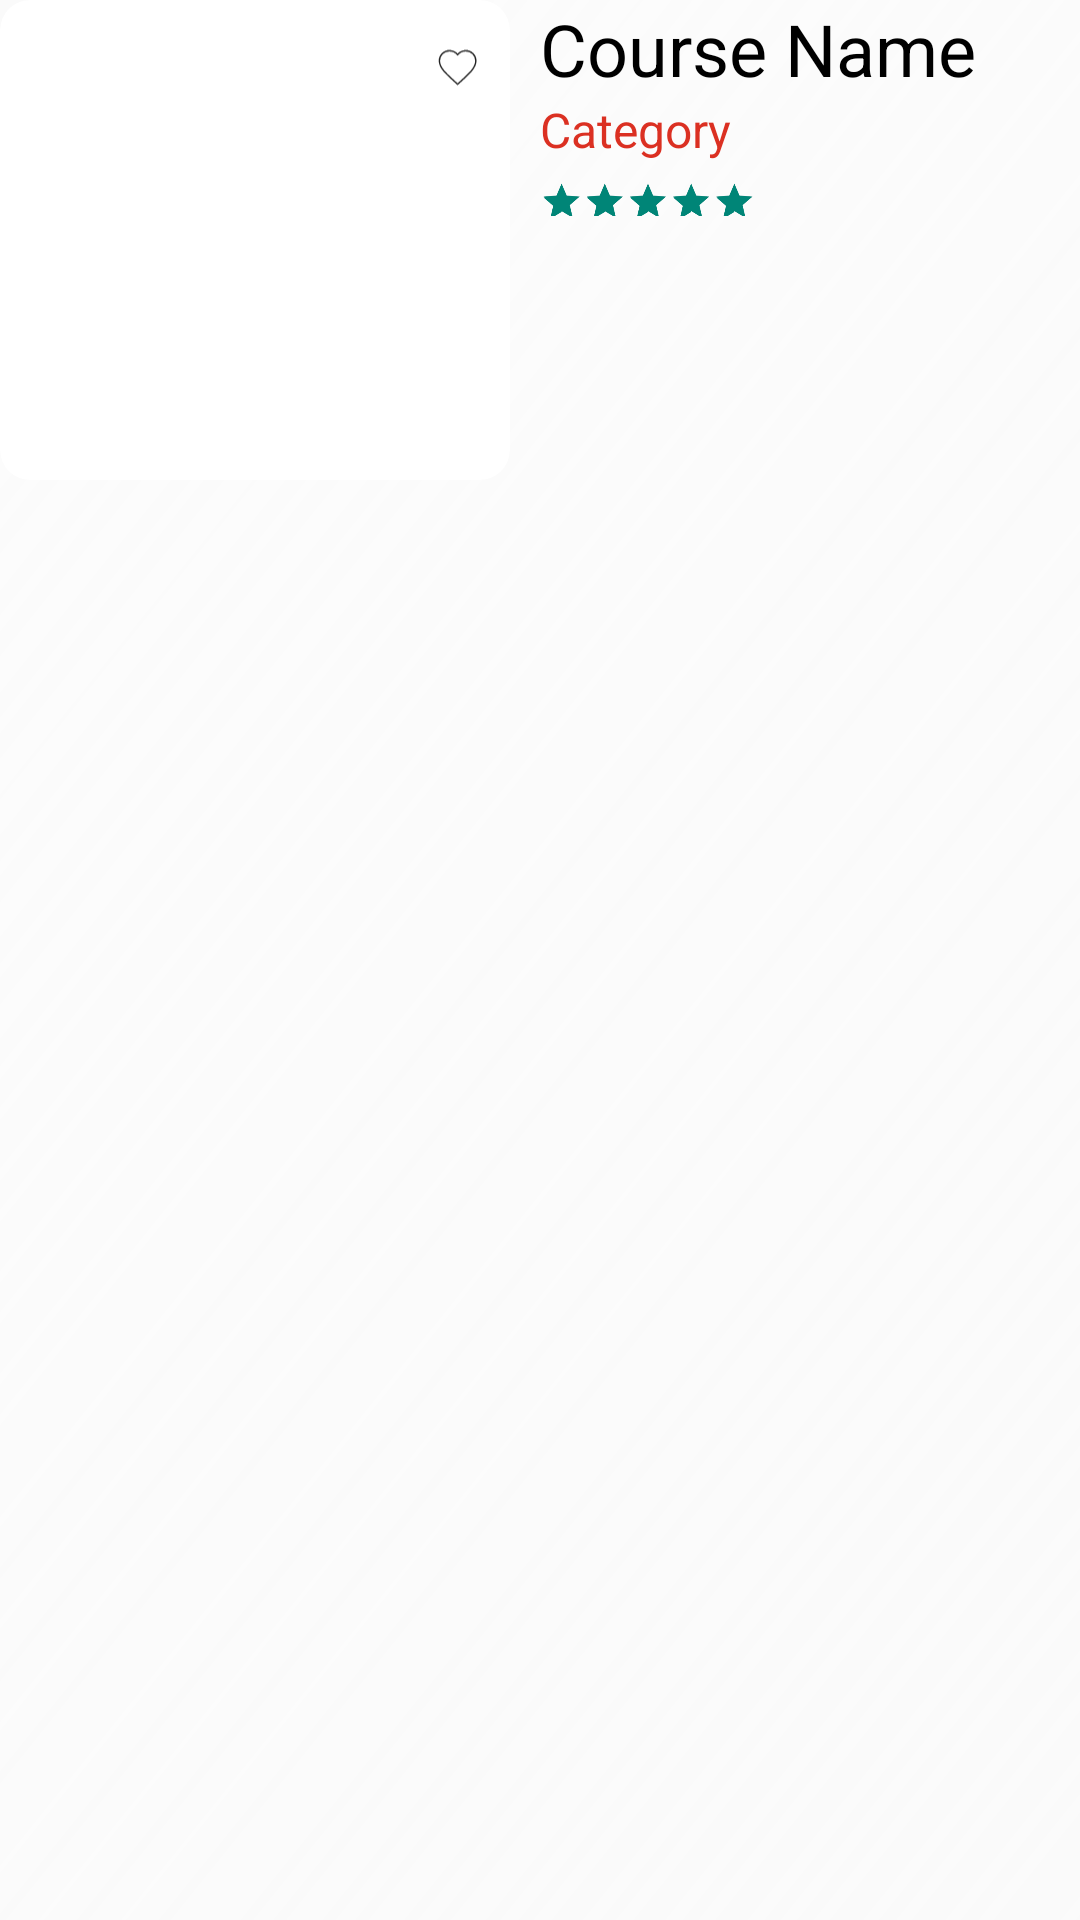

Screen size 1080×1920. Icon name, then its box in pixels as (x1, y1, x2, y2):
fav: (438, 49, 477, 86)
